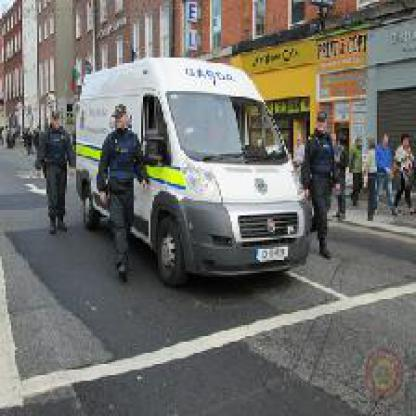emergency: (72, 52, 312, 295)
